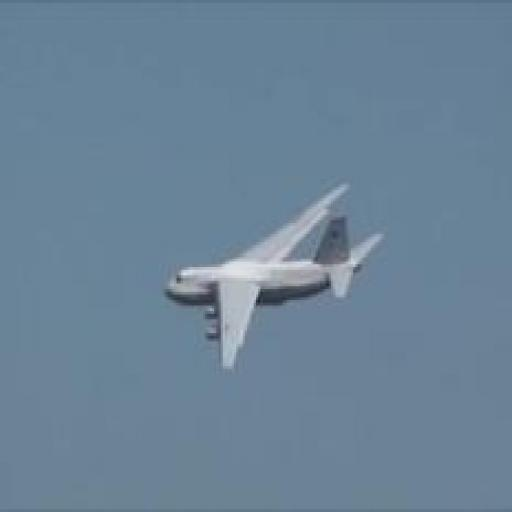aircraft: (161, 182, 386, 372)
